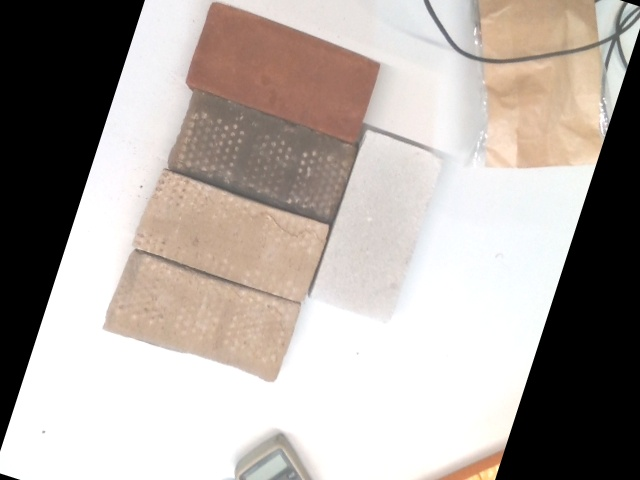brick: (104, 249, 301, 384), (132, 168, 330, 302), (314, 131, 445, 323), (186, 7, 379, 137), (168, 94, 358, 218)
